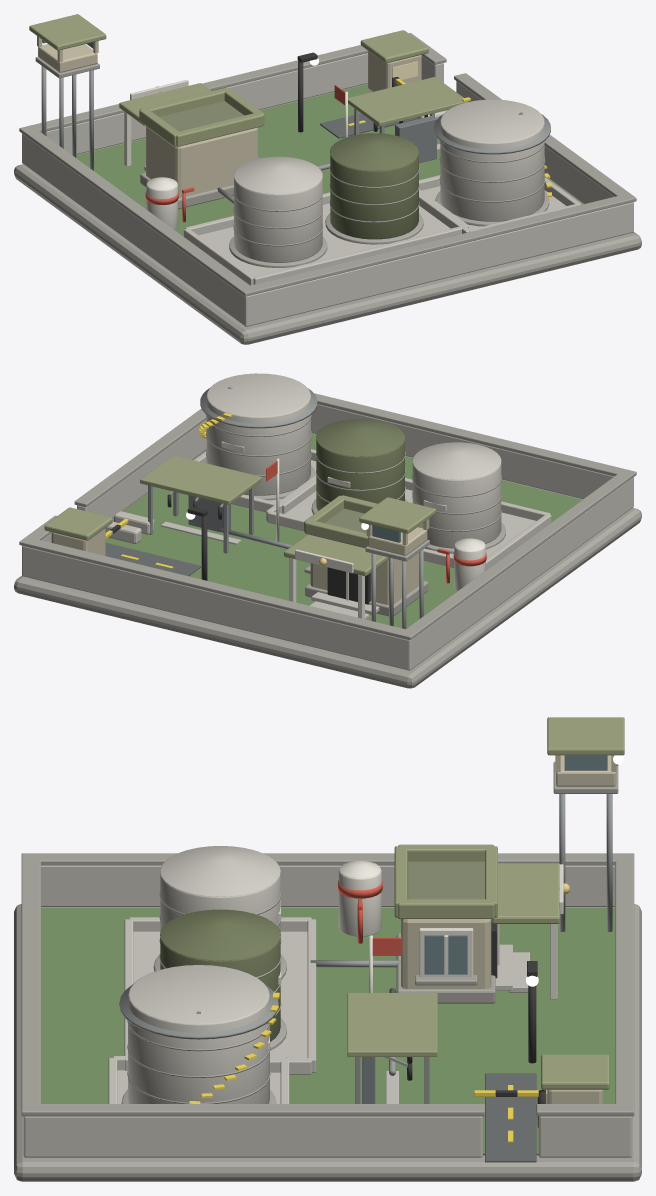
File: fueldepot_7.glb
3 renders of one model, top to bottom at view 1: azimuth 30°, elevation 25°; view 2: azimuth 150°, elevation 25°; view 3: azimuth 270°, elevation 25°, orthographic. The views are drawn at different scales.
Parts seen in each view (by area): view 1: Cube, Cube.074, Cylinder.012, Cube.001, Cube.076, Cylinder.007, Cylinder.002, Cube.072, Cube.042, Cube.075, Cube.077, Cube.065 (+28 smaller); view 2: Cube.001, Cube, Cube.072, Cylinder.012, Cube.076, Cube.074, Cylinder.002, Cube.073, Cylinder.007, Cube.065, Cube.077, Cube.075 (+30 smaller); view 3: Cube.001, Cube, Cube.080, Cylinder.012, Cube.076, Cube.081, Cube.065, Cube.075, Cube.073, Cone.001, Cone, Cube.014 (+33 smaller).
Boxes of the visible parts, bbox=[...] form: Cube: bbox=[14, 83, 641, 344]; Cube.074: bbox=[241, 202, 633, 326]; Cylinder.012: bbox=[440, 99, 544, 221]; Cube.001: bbox=[76, 84, 582, 236]; Cube.076: bbox=[24, 136, 242, 324]; Cylinder.007: bbox=[330, 154, 418, 239]; Cylinder.002: bbox=[234, 178, 322, 262]; Cube.072: bbox=[22, 53, 367, 164]; Cube.042: bbox=[146, 126, 257, 197]; Cube.075: bbox=[238, 193, 636, 296]; Cube.077: bbox=[22, 129, 252, 293]; Cube.065: bbox=[348, 77, 468, 126]; Cube.001: bbox=[105, 433, 581, 628]; Cube: bbox=[14, 433, 641, 688]; Cube.072: bbox=[22, 545, 413, 670]; Cylinder.012: bbox=[206, 373, 310, 495]; Cube.076: bbox=[413, 480, 629, 667]; Cube.074: bbox=[311, 404, 633, 509]; Cylinder.002: bbox=[412, 463, 501, 548]; Cube.073: bbox=[19, 537, 417, 640]; Cylinder.007: bbox=[316, 440, 404, 510]; Cube.065: bbox=[140, 455, 261, 504]; Cube.077: bbox=[403, 472, 630, 637]; Cube.075: bbox=[314, 393, 636, 479]; Cube.001: bbox=[41, 907, 614, 1155]; Cube: bbox=[14, 904, 641, 1181]; Cube.080: bbox=[33, 1116, 482, 1157]; Cylinder.012: bbox=[128, 965, 269, 1103]; Cube.076: bbox=[41, 865, 614, 906]; Cube.081: bbox=[30, 1104, 484, 1116]; Cube.065: bbox=[347, 993, 437, 1056]; Cube.075: bbox=[21, 853, 40, 1116]; Cube.073: bbox=[615, 853, 634, 1116]; Cone.001: bbox=[160, 909, 280, 960]; Cone: bbox=[160, 846, 280, 896]; Cube.014: bbox=[133, 931, 307, 1058].
Size of the model in its own units: 2.92 by 1.08 by 2.92.
